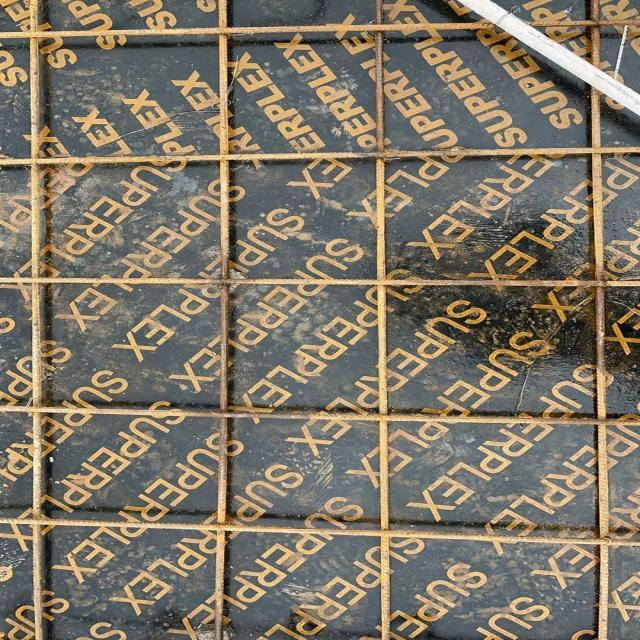ribbed bar: (0, 516, 639, 548), (0, 19, 639, 39), (0, 146, 639, 166), (0, 406, 639, 426), (588, 0, 608, 639), (214, 0, 231, 639), (373, 0, 389, 639), (28, 0, 42, 639), (0, 275, 639, 288)
